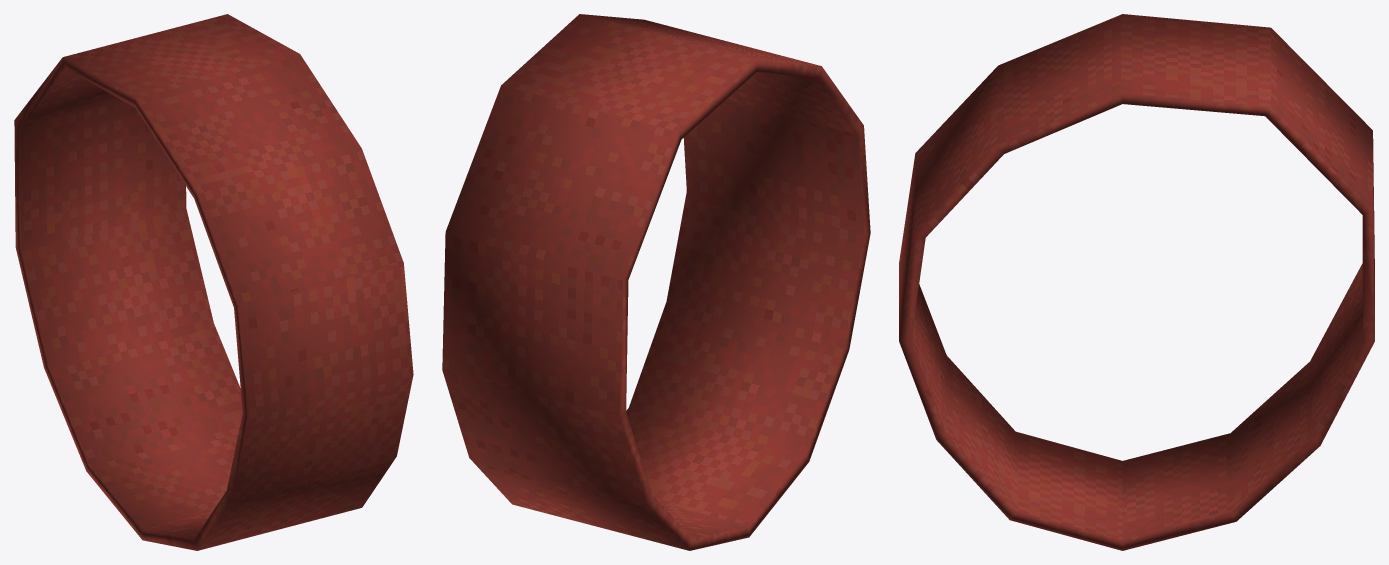
The model's file is armband.glb.
3 views of the same model, side by side, from view 1: azimuth 30°, elevation 25°; view 2: azimuth 150°, elevation 25°; view 3: azimuth 270°, elevation 25° (orthographic). The views are drawn at different scales.
Parts seen in each view (by area): view 1: armband_ground; view 2: armband_ground; view 3: armband_ground.
Part boxes in pixels (x1,y1,x2,y2): armband_ground: (14,14,413,550); armband_ground: (442,14,870,550); armband_ground: (899,14,1374,550).
Size of the model in its own units: 0.0679 by 0.1686 by 0.159.
Materials: 1 (1 with a texture image).
